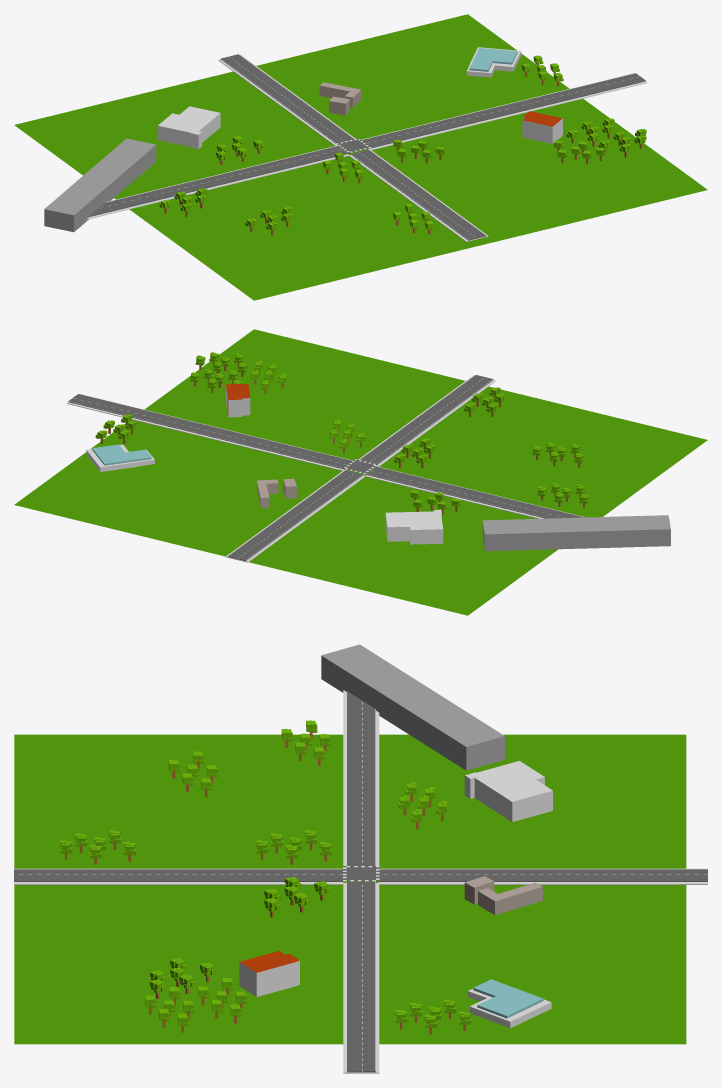
Rendered from Elmwood (1).fbx.
The picture shows the model from 3 angles, top to bottom: view 1: azimuth 30°, elevation 25°; view 2: azimuth 150°, elevation 25°; view 3: azimuth 270°, elevation 25°; orthographic projection. The views are drawn at different scales.
Parts seen in each view (by area): view 1: pPlane3, polySurface342, polySurface376, polySurface377, polySurface379, polySurface378, pCube325, pCube321, pCube323, pCube324, pCube322, pCube317 (+4 smaller); view 2: pPlane3, polySurface342, polySurface376, polySurface378, polySurface379, polySurface377, pCube320, pCube319, pCube318, pCube322, pCube323, pCube325 (+4 smaller); view 3: pPlane3, polySurface342, polySurface376, polySurface377, polySurface379, polySurface378, pCube317, pCube316, pCube318, pCube319, pCube320, pCube321 (+4 smaller).
Part boxes in pixels (x1,y1,x2,y2): pPlane3: [14, 14, 707, 300]; polySurface342: [44, 47, 562, 232]; polySurface376: [361, 73, 647, 150]; polySurface377: [86, 146, 348, 219]; polySurface379: [348, 149, 488, 241]; polySurface378: [218, 54, 355, 145]; pCube325: [598, 129, 646, 157]; pCube321: [216, 136, 265, 164]; pCube323: [159, 188, 207, 216]; pCube324: [566, 118, 614, 146]; pCube322: [245, 207, 293, 235]; pCube317: [393, 139, 445, 163]; pPlane3: [14, 329, 707, 615]; polySurface342: [86, 383, 670, 551]; polySurface376: [66, 394, 352, 470]; polySurface378: [226, 470, 365, 562]; polySurface379: [358, 375, 495, 466]; polySurface377: [365, 466, 585, 518]; pCube320: [95, 414, 137, 444]; pCube319: [464, 387, 505, 417]; pCube318: [394, 438, 435, 468]; pCube322: [532, 442, 583, 467]; pCube323: [537, 483, 588, 507]; pCube325: [195, 352, 247, 376]; pPlane3: [14, 734, 686, 1044]; polySurface342: [239, 644, 552, 1028]; polySurface376: [343, 881, 379, 1073]; polySurface377: [343, 690, 379, 865]; polySurface379: [14, 868, 343, 884]; polySurface378: [378, 868, 707, 884]; pCube317: [264, 876, 330, 917]; pCube316: [150, 958, 216, 998]; pCube318: [256, 830, 331, 864]; pCube319: [60, 830, 135, 864]; pCube320: [395, 1000, 470, 1034]; pCube321: [398, 782, 447, 828].
Bounding box in the file's own units: 128 × 4.64 × 92.31.
